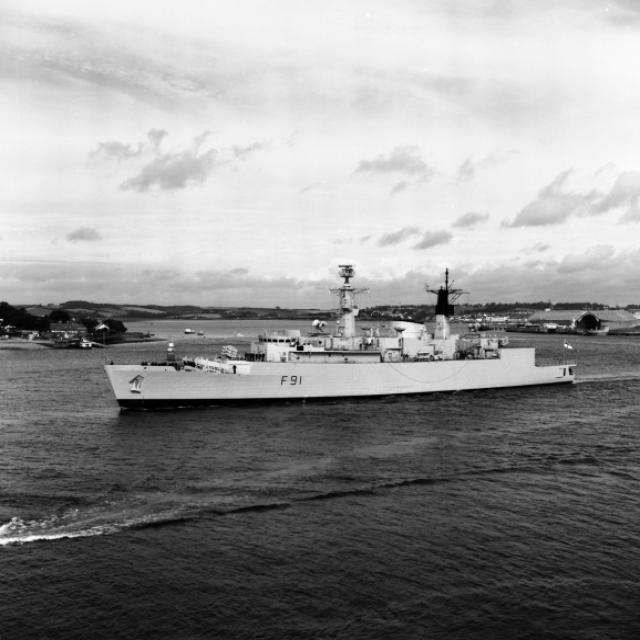Fragata: (96, 256, 578, 420)
